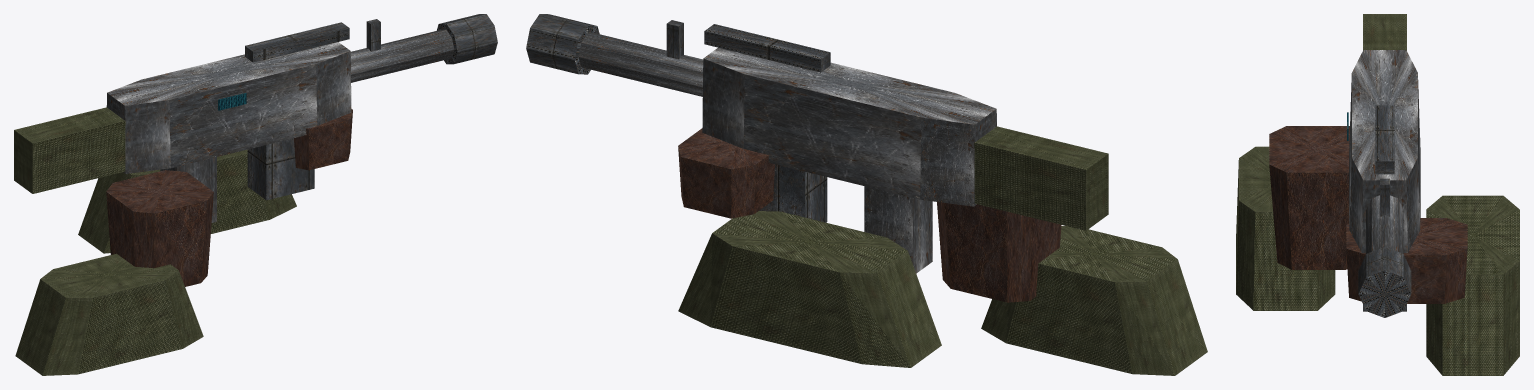
Rendered from carbine.obj.
The picture shows the model from 3 angles, left to right: view 1: azimuth 30°, elevation 25°; view 2: azimuth 150°, elevation 25°; view 3: azimuth 270°, elevation 25°; orthographic projection. The views are drawn at different scales.
Visible parts, largest first — view 1: carbine; view 2: carbine; view 3: carbine.
Boxes of the visible parts, box(x1,y1,x2,y2) form: carbine: box(14, 14, 497, 375); carbine: box(526, 14, 1207, 375); carbine: box(1236, 14, 1519, 375).
Size of the model in its own units: 1.24 by 0.528 by 0.515.
Materials: 1 (1 with a texture image).
